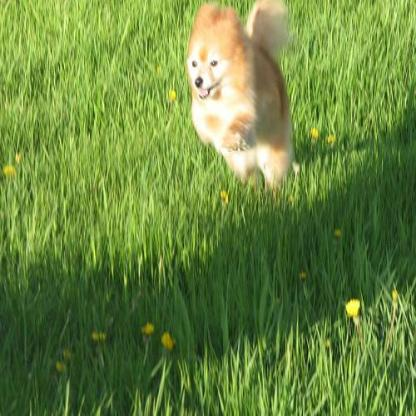Pomeranian: (185, 0, 292, 190)
